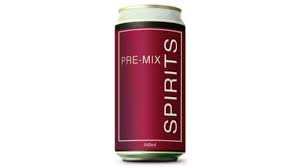can: (110, 3, 189, 166)
